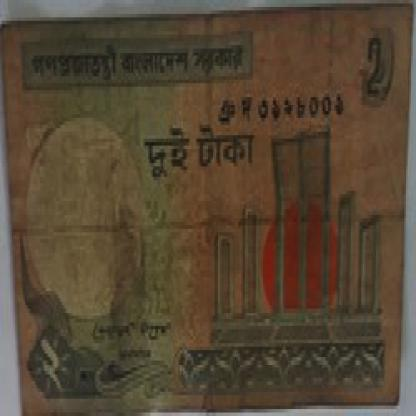two taka: (25, 319, 67, 406), (358, 35, 392, 104)
